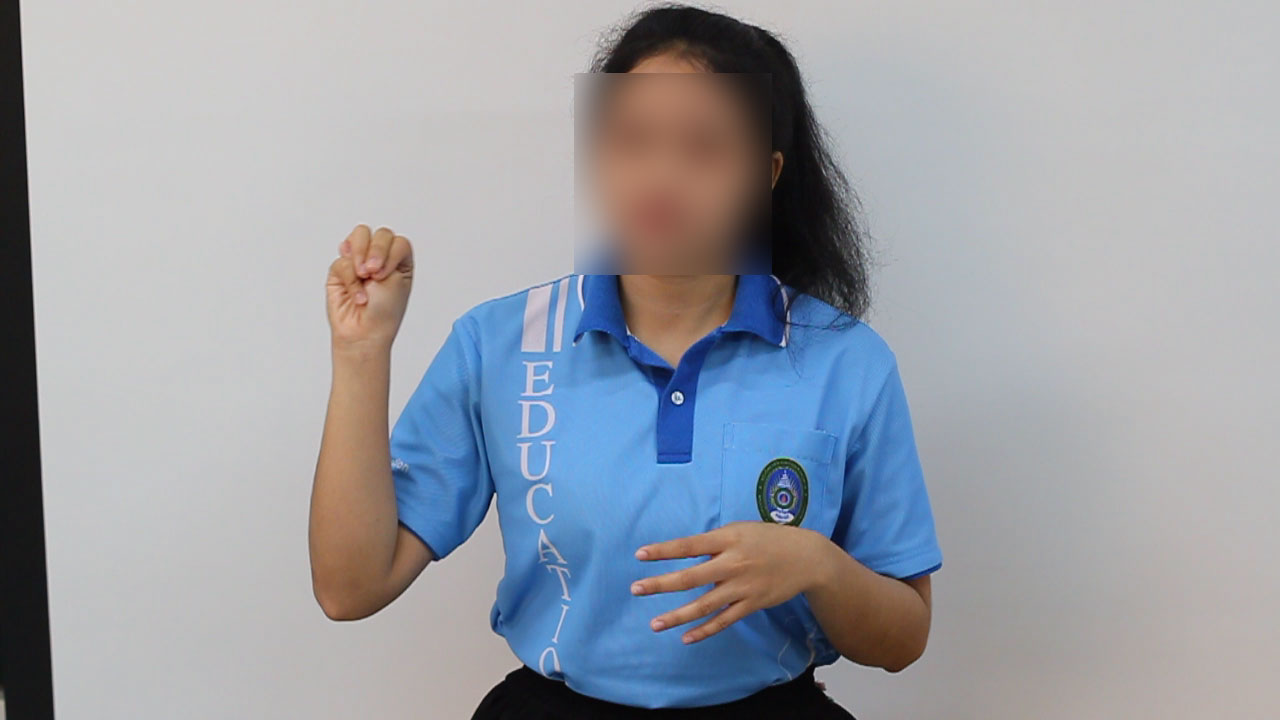mor: (310, 207, 428, 377)
